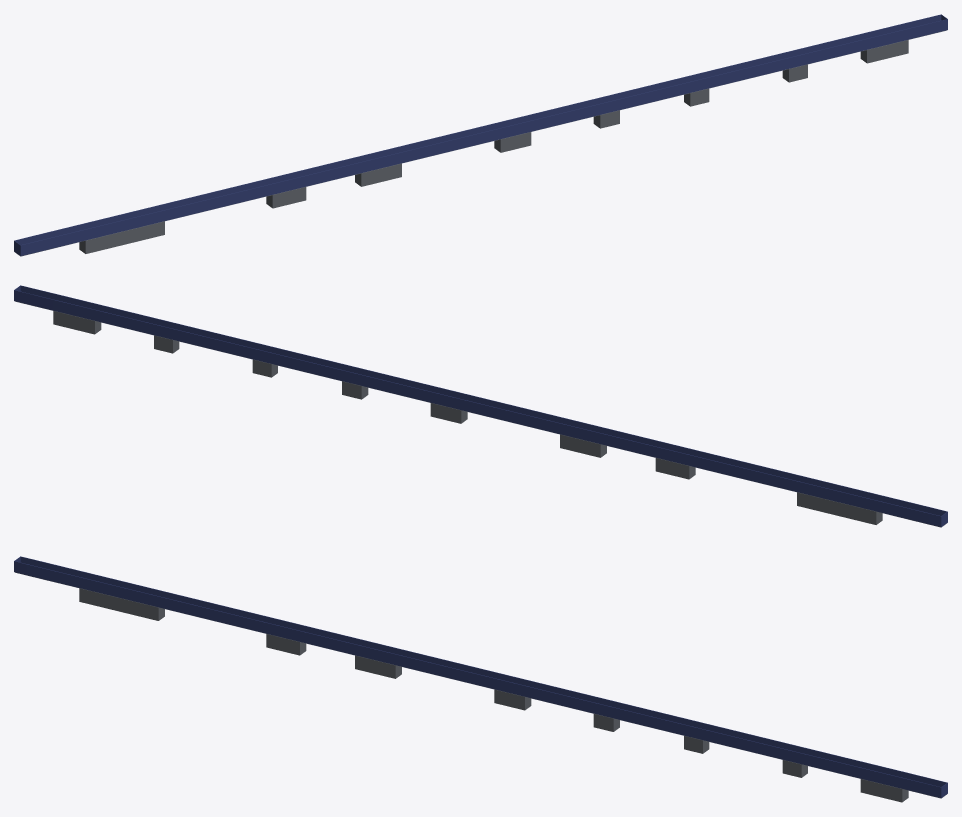
The picture shows the model from 3 angles, top to bottom: view 1: azimuth 30°, elevation 25°; view 2: azimuth 150°, elevation 25°; view 3: azimuth 330°, elevation 25°; orthographic projection.
Visible parts, largest first — view 1: Cube.001, DEAD ZONE.001, Cube; view 2: Cube.001, DEAD ZONE.001, Cube; view 3: Cube.001, DEAD ZONE.001, Cube.
Part boxes in pixels (left/top/right/bottom): Cube.001: left=14, top=14, right=947, bottom=256; DEAD ZONE.001: left=79, top=40, right=908, bottom=253; Cube: left=15, top=30, right=946, bottom=256; Cube.001: left=14, top=285, right=947, bottom=527; DEAD ZONE.001: left=53, top=311, right=882, bottom=524; Cube: left=15, top=301, right=946, bottom=527; Cube.001: left=14, top=556, right=947, bottom=798; DEAD ZONE.001: left=79, top=588, right=908, bottom=802; Cube: left=15, top=572, right=946, bottom=798.
Size of the model in its own units: 93669 by 2387 by 1181.
Materials: 1 (1 with a texture image).
